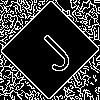J: (25, 25, 76, 76)
